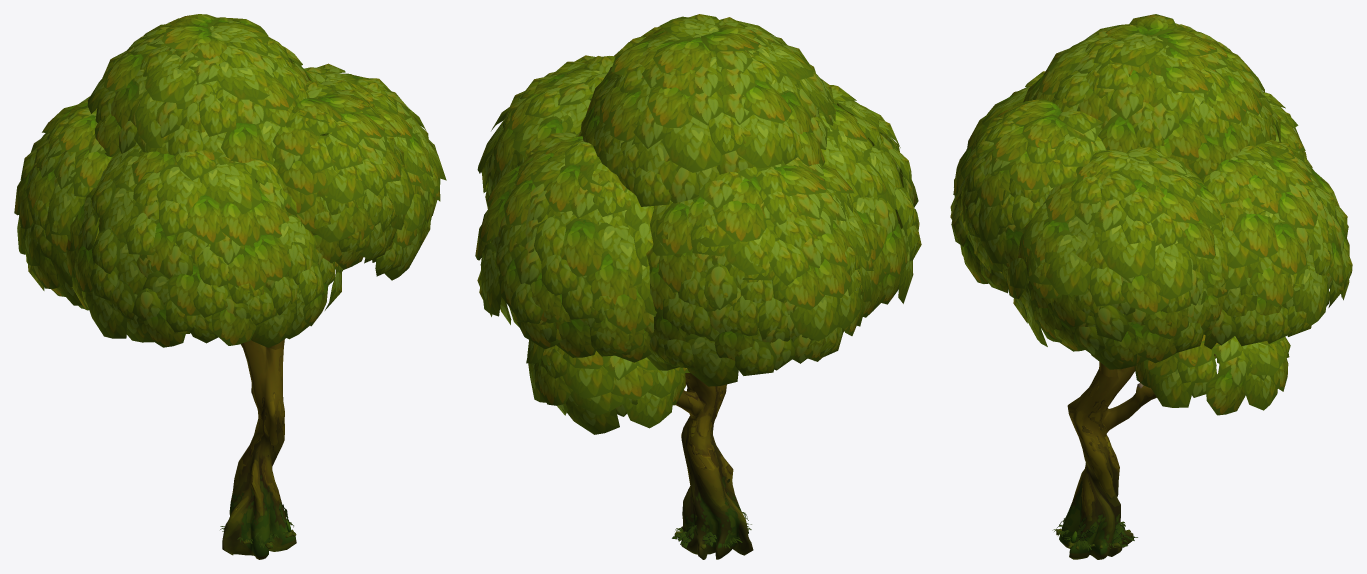
File: oak.glb
3 views of the same model, side by side, from view 1: azimuth 30°, elevation 25°; view 2: azimuth 150°, elevation 25°; view 3: azimuth 270°, elevation 25° (orthographic). The views are drawn at different scales.
Visible parts, largest first — view 1: LOD0; view 2: LOD0; view 3: LOD0.
Part boxes in pixels (x1,y1,x2,y2): LOD0: [14, 14, 446, 559]; LOD0: [475, 14, 921, 559]; LOD0: [950, 14, 1352, 559].
Bounding box in the file's own units: 8.71 × 11.57 × 8.25.
Materials: 2 (2 with a texture image).
